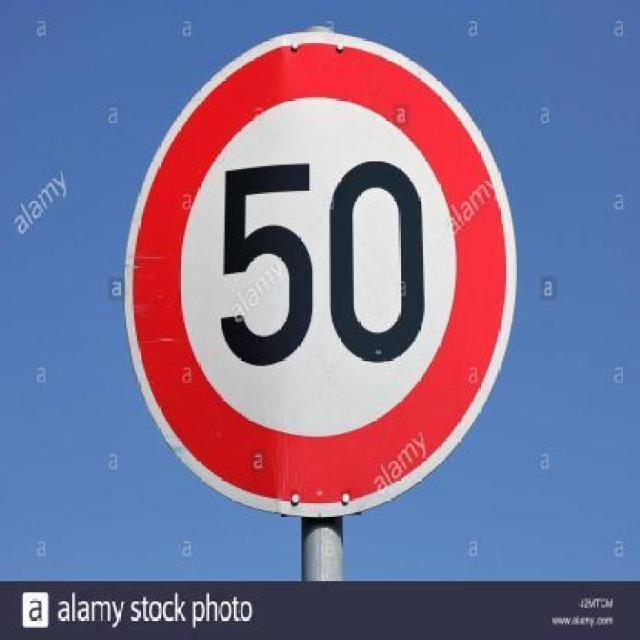Speed limit 50: (121, 27, 521, 520)
